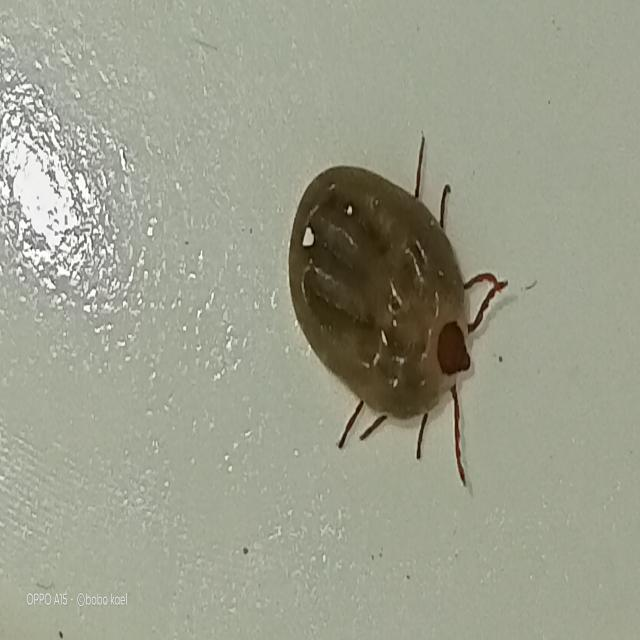Rhipicephalus Sanguineus-F-Fed: (287, 130, 518, 498)
